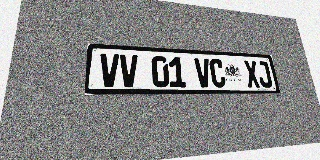0: (151, 56, 169, 87)
1: (168, 57, 186, 87)
C: (209, 59, 226, 87)
J: (256, 61, 273, 87)
V: (99, 53, 119, 87), (120, 54, 138, 87), (194, 58, 212, 87)
X: (243, 60, 261, 87)
